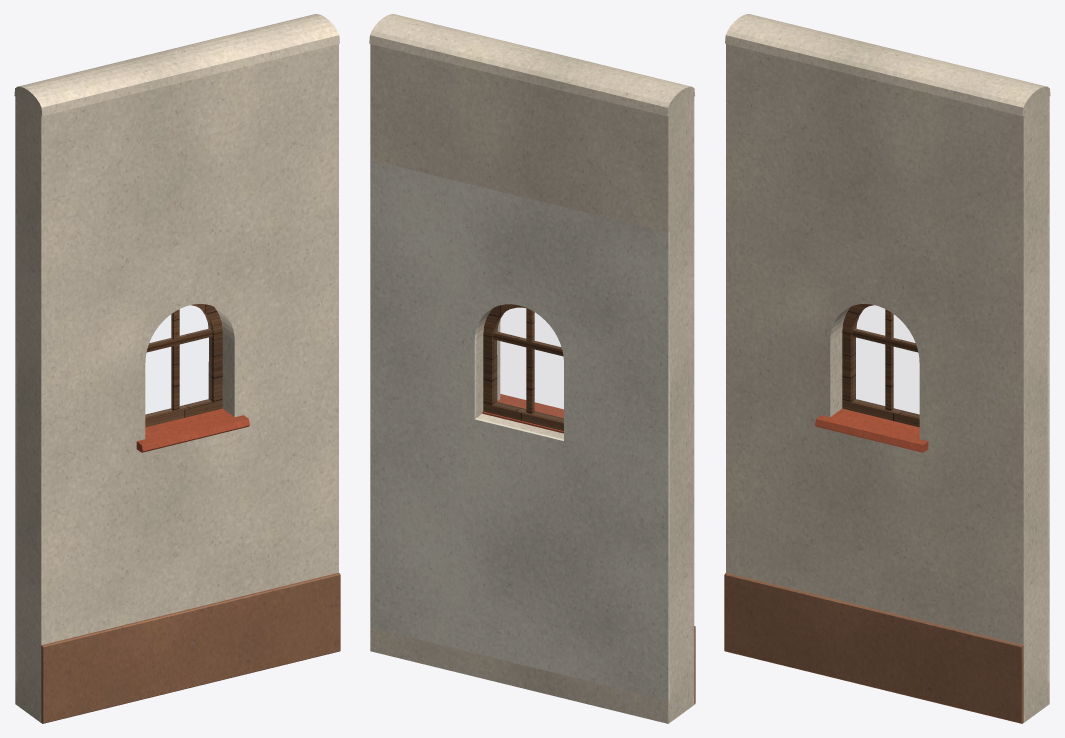
The model's file is c_wall_side_small.glb.
3 renders of one model, left to right at view 1: azimuth 30°, elevation 25°; view 2: azimuth 150°, elevation 25°; view 3: azimuth 330°, elevation 25°, orthographic.
Parts seen in each view (by area): view 1: c_wall_side_small_render, c_wall_side_small_plinth, c_wall_side_small_glass, c_wall_side_small_wood, c_wall_side_small_tile_clay, c_wall_side_small_plaster; view 2: c_wall_side_small_plaster, c_wall_side_small_render, c_wall_side_small_glass, c_wall_side_small_wood, c_wall_side_small_tile_clay; view 3: c_wall_side_small_render, c_wall_side_small_plinth, c_wall_side_small_glass, c_wall_side_small_wood, c_wall_side_small_tile_clay, c_wall_side_small_plaster.
Boxes of the visible parts, x1,y1,x2,y2 form: c_wall_side_small_render: [14, 14, 339, 722]; c_wall_side_small_plinth: [41, 572, 340, 723]; c_wall_side_small_glass: [146, 306, 210, 416]; c_wall_side_small_wood: [145, 304, 222, 427]; c_wall_side_small_tile_clay: [136, 408, 249, 452]; c_wall_side_small_plaster: [15, 213, 17, 681]; c_wall_side_small_plaster: [370, 160, 669, 700]; c_wall_side_small_render: [369, 14, 695, 723]; c_wall_side_small_glass: [495, 308, 563, 420]; c_wall_side_small_wood: [483, 304, 563, 430]; c_wall_side_small_tile_clay: [482, 394, 563, 433]; c_wall_side_small_render: [725, 14, 1050, 722]; c_wall_side_small_plinth: [724, 572, 1023, 723]; c_wall_side_small_glass: [854, 306, 918, 416]; c_wall_side_small_wood: [842, 304, 919, 427]; c_wall_side_small_tile_clay: [815, 408, 928, 452]; c_wall_side_small_plaster: [1047, 213, 1049, 681].
Bounding box in the file's own units: 2 × 4 × 0.387.
Materials: 6 (5 with a texture image).
